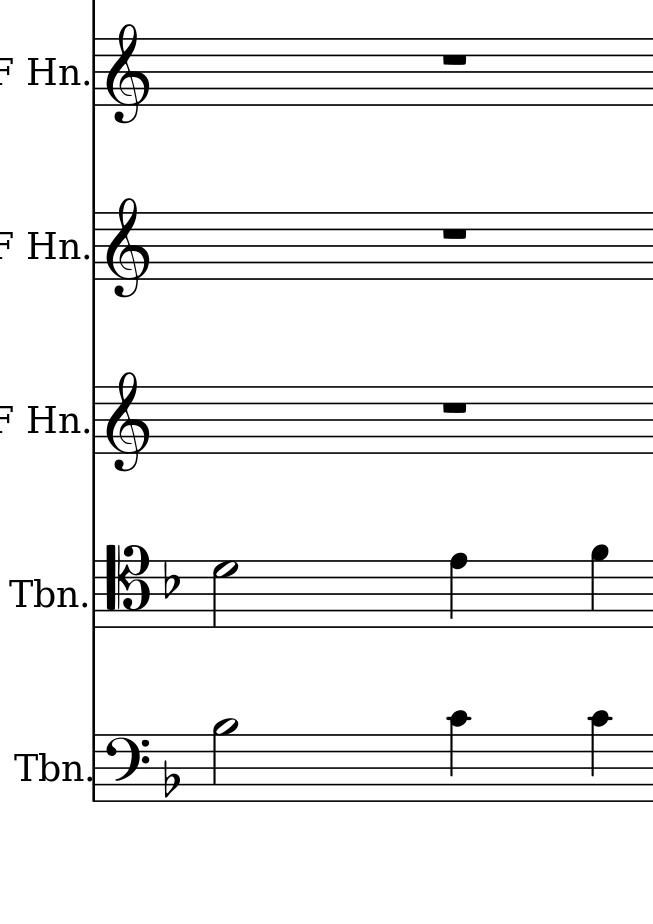2_7: (208, 555, 240, 634)
2_9: (210, 715, 242, 805)
4_10: (445, 707, 468, 804), (589, 709, 612, 805)
4_8: (447, 551, 470, 629)
4_9: (589, 543, 610, 631)
Flat: (160, 758, 183, 800), (161, 560, 183, 603)
Gclef: (107, 198, 150, 299), (108, 370, 150, 472), (107, 23, 148, 123), (103, 730, 152, 805)
Hn: (22, 50, 81, 97), (23, 399, 82, 443), (24, 227, 81, 265)
Rests1: (439, 50, 472, 70), (439, 224, 472, 244), (441, 399, 472, 418)
Single_barline: (90, 37, 102, 106), (89, 212, 101, 281), (89, 385, 101, 454), (88, 560, 100, 629), (89, 734, 101, 803)
Tbn: (5, 565, 83, 616), (7, 744, 85, 786)
Tensor_Cclef: (105, 541, 153, 629)
